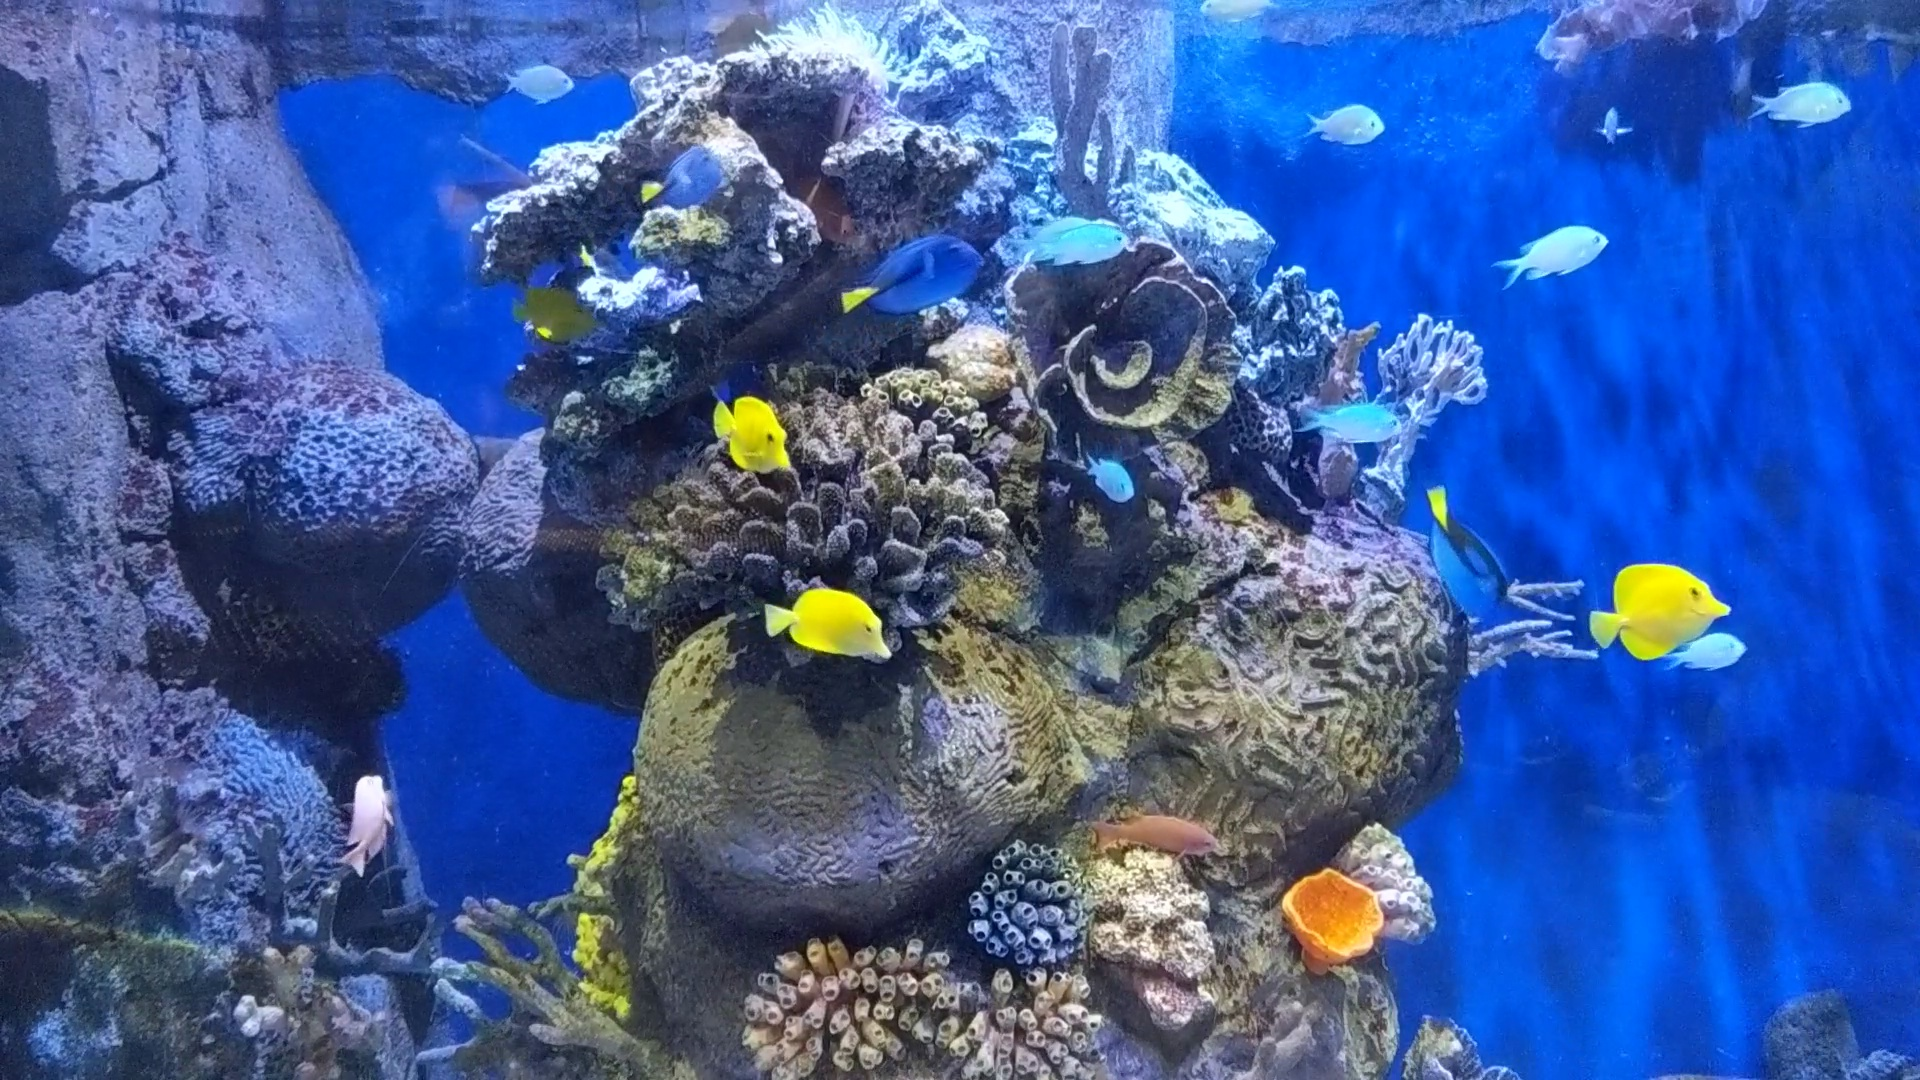blue tang surgeonfish: (829, 235, 994, 316), (1422, 480, 1514, 624), (625, 142, 731, 222)
damselfish: (1490, 225, 1613, 284), (1290, 394, 1412, 451), (1079, 438, 1145, 521), (1746, 82, 1858, 127), (1005, 215, 1122, 257), (1029, 225, 1137, 270), (1663, 628, 1753, 680), (1304, 100, 1394, 146), (504, 59, 580, 105), (1590, 98, 1644, 157), (1199, 0, 1280, 25)
saddle butterfly fish: (1584, 563, 1731, 659), (762, 579, 895, 673), (505, 277, 626, 355), (709, 389, 798, 493)
